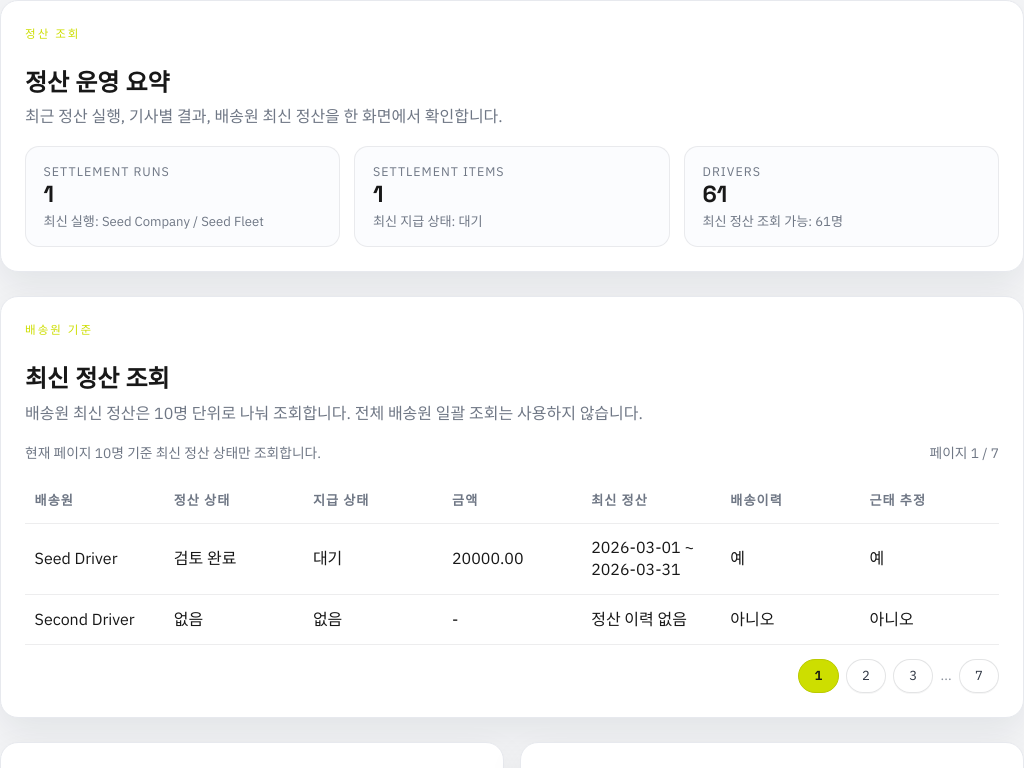
Test: SettlementOverviewPage › renders summary strip and paged latest settlement context
The width and height of the screenshot is (1024, 768).
Expected: the heading "정산 운영 요약" is shown, [25, 67, 170, 98]
Expected: the text "최신 정산 조회 가능: 61명" is shown, [702, 213, 843, 230]
Click the button "2" at (866, 676), box [846, 659, 886, 693]
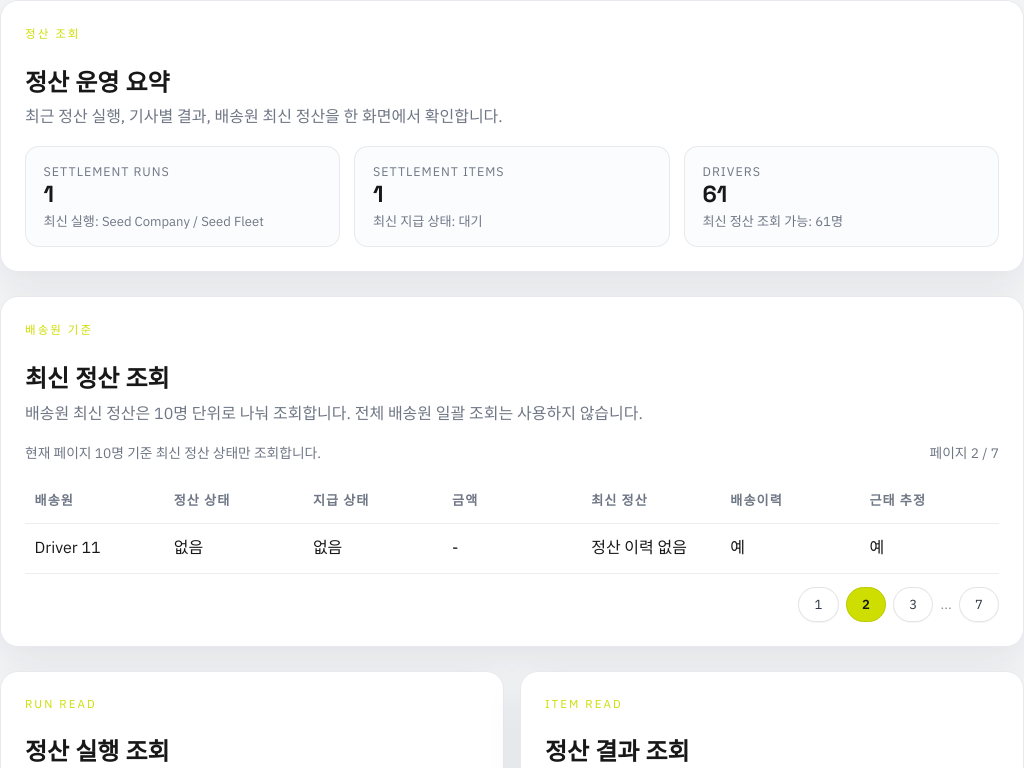
Expected: the text "Driver 11" is shown, [25, 523, 164, 573]
